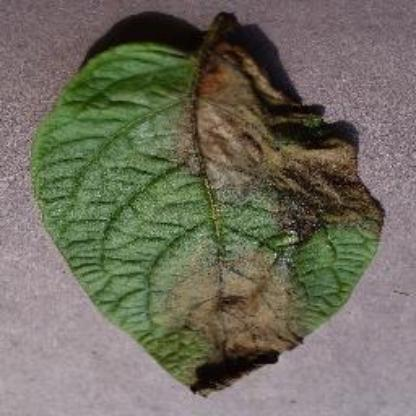Late-Blight: (27, 19, 388, 406)
